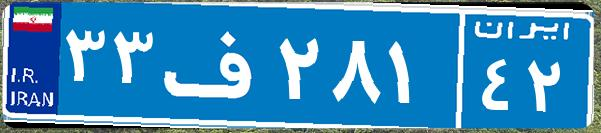1: (385, 28, 445, 110)
2: (273, 28, 330, 110), (525, 38, 570, 115)
3: (57, 26, 110, 107), (110, 28, 158, 105)
4: (475, 38, 525, 113)
8: (330, 28, 385, 110)
ف: (158, 15, 273, 115)
